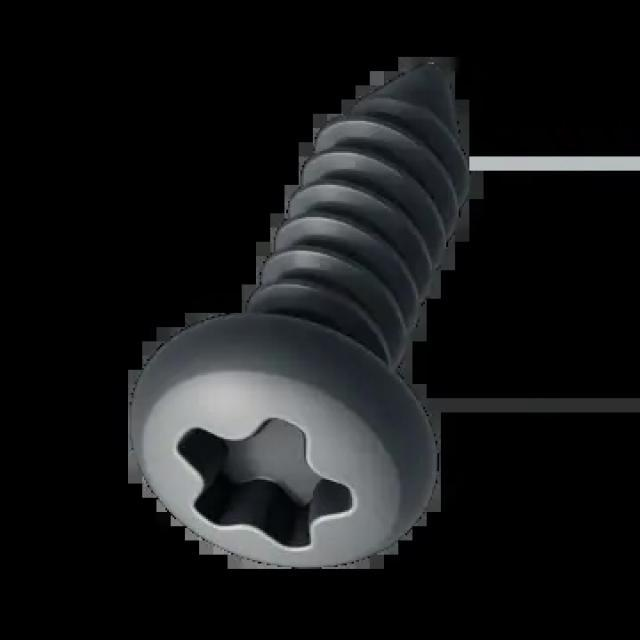torx: (126, 313, 443, 573)
